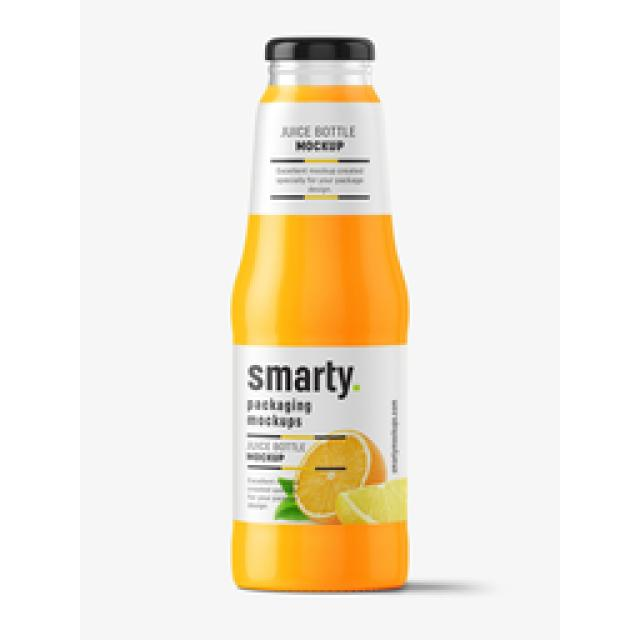glass_beverage_bottles: (232, 34, 412, 594)
